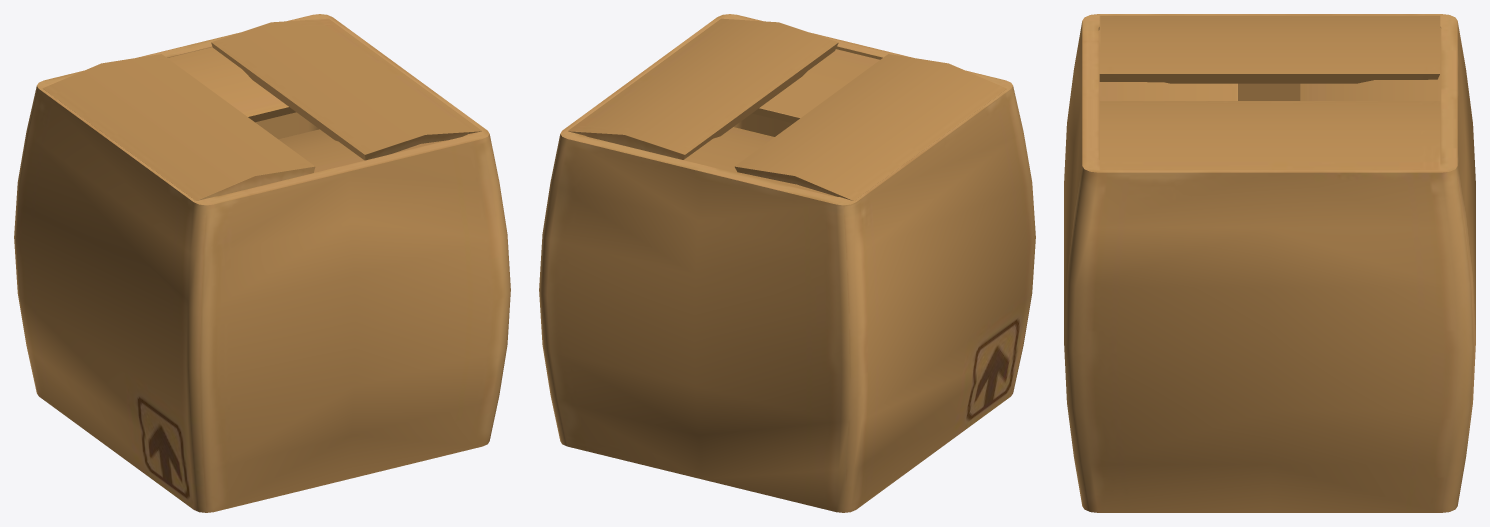
The model's file is Box_Closed.fbx.
The picture shows the model from 3 angles, left to right: view 1: azimuth 30°, elevation 25°; view 2: azimuth 150°, elevation 25°; view 3: azimuth 270°, elevation 25°; orthographic projection. The views are drawn at different scales.
Parts seen in each view (by area): view 1: Box, polySurface4, polySurface1, polySurface5, polySurface3; view 2: Box, polySurface4, polySurface1, polySurface3, polySurface5; view 3: Box, polySurface1, polySurface4, polySurface5, polySurface3.
Boxes of the visible parts, left/top/right/bottom form: Box: left=14, top=14, right=510, bottom=512; polySurface4: left=42, top=54, right=315, bottom=200; polySurface1: left=211, top=18, right=481, bottom=160; polySurface5: left=167, top=47, right=295, bottom=122; polySurface3: left=278, top=129, right=446, bottom=172; Box: left=539, top=14, right=1035, bottom=512; polySurface4: left=734, top=54, right=1007, bottom=200; polySurface1: left=568, top=18, right=838, bottom=159; polySurface3: left=752, top=49, right=879, bottom=123; polySurface5: left=683, top=127, right=836, bottom=196; Box: left=1064, top=14, right=1475, bottom=512; polySurface1: left=1099, top=101, right=1440, bottom=170; polySurface4: left=1099, top=15, right=1440, bottom=83; polySurface5: left=1300, top=27, right=1441, bottom=159; polySurface3: left=1098, top=30, right=1237, bottom=159.
Size of the model in its own units: 5.34 by 5.04 by 5.34.
1 material, 1 textured.
